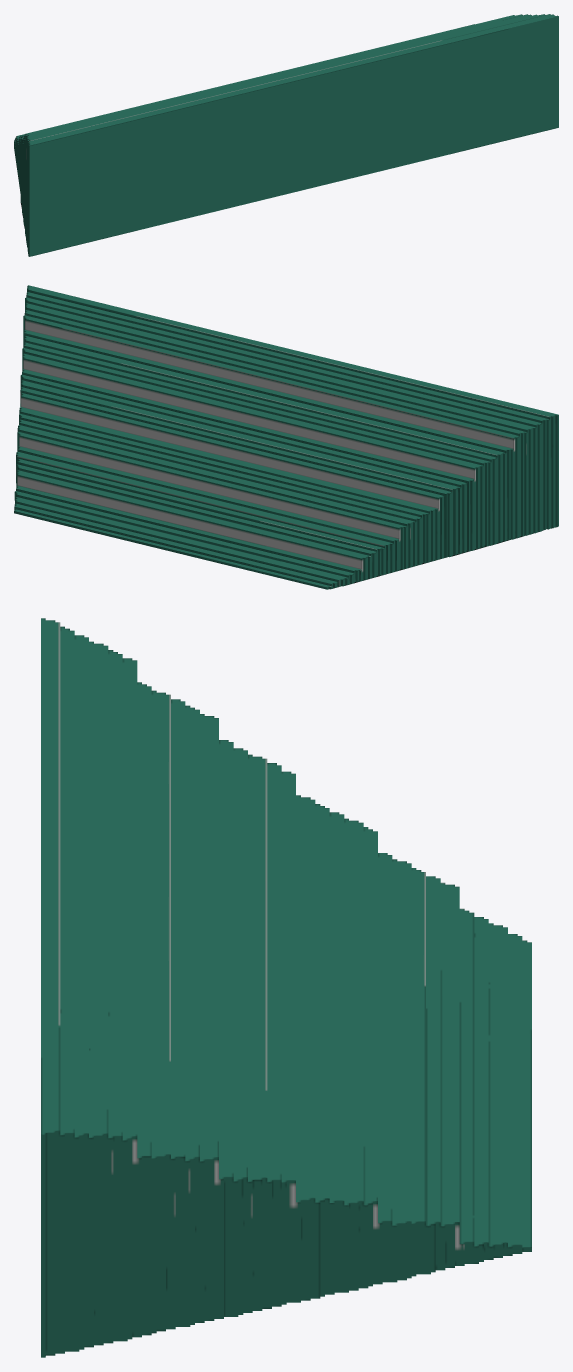
File: RampaMarajoara-0.fbx
3 views of the same model, one above another, from view 1: azimuth 30°, elevation 25°; view 2: azimuth 150°, elevation 25°; view 3: azimuth 270°, elevation 25° (orthographic). The views are drawn at different scales.
Parts seen in each view (by area): view 1: Rampa marajoara-0; view 2: Rampa marajoara-0; view 3: Rampa marajoara-0.
Part boxes in pixels (<box>): Rampa marajoara-0: <box>14,14,558,256</box>; Rampa marajoara-0: <box>14,285,558,589</box>; Rampa marajoara-0: <box>41,618,531,1357</box>.
Size of the model in its own units: 2540 by 510 by 1020.
